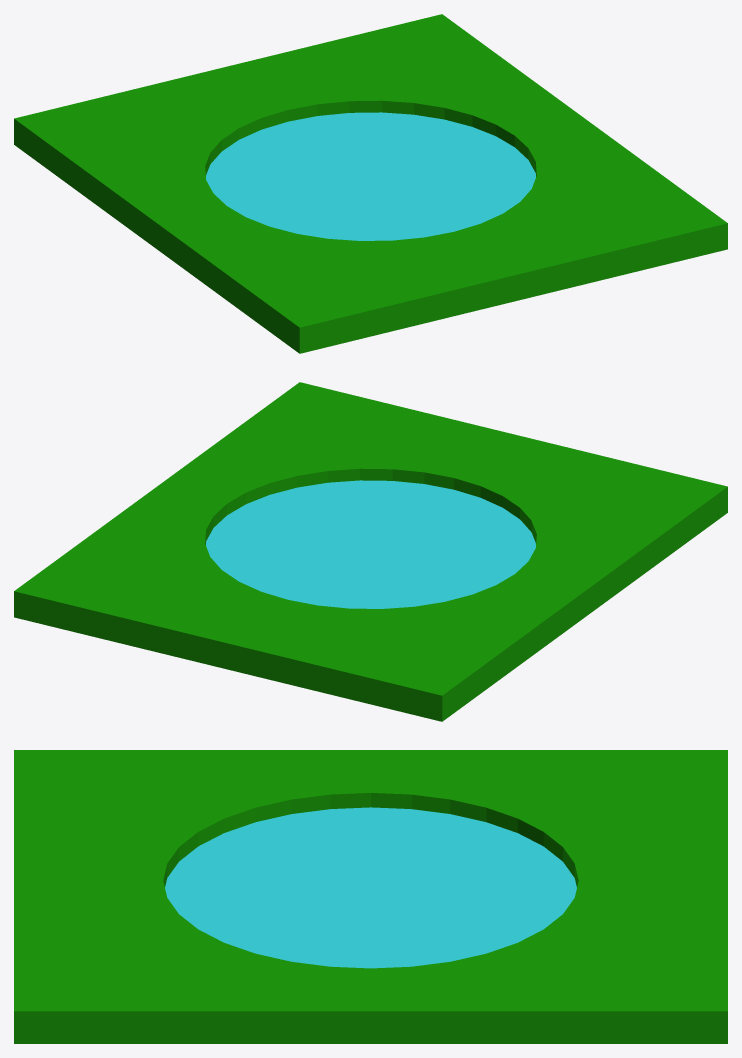
Rendered from Level_1.glb.
The picture shows the model from 3 angles, top to bottom: view 1: azimuth 30°, elevation 25°; view 2: azimuth 150°, elevation 25°; view 3: azimuth 270°, elevation 25°; orthographic projection. The views are drawn at different scales.
Visible parts, largest first — view 1: Cube, Cube.001; view 2: Cube, Cube.001; view 3: Cube, Cube.001.
Boxes of the visible parts, <box> form: Cube: <box>14,14,727,353</box>; Cube.001: <box>206,112,535,240</box>; Cube: <box>14,382,727,721</box>; Cube.001: <box>206,480,535,608</box>; Cube: <box>14,750,727,1043</box>; Cube.001: <box>165,807,576,968</box>.
Bounding box in the file's own units: 34.26 × 2 × 39.6.
